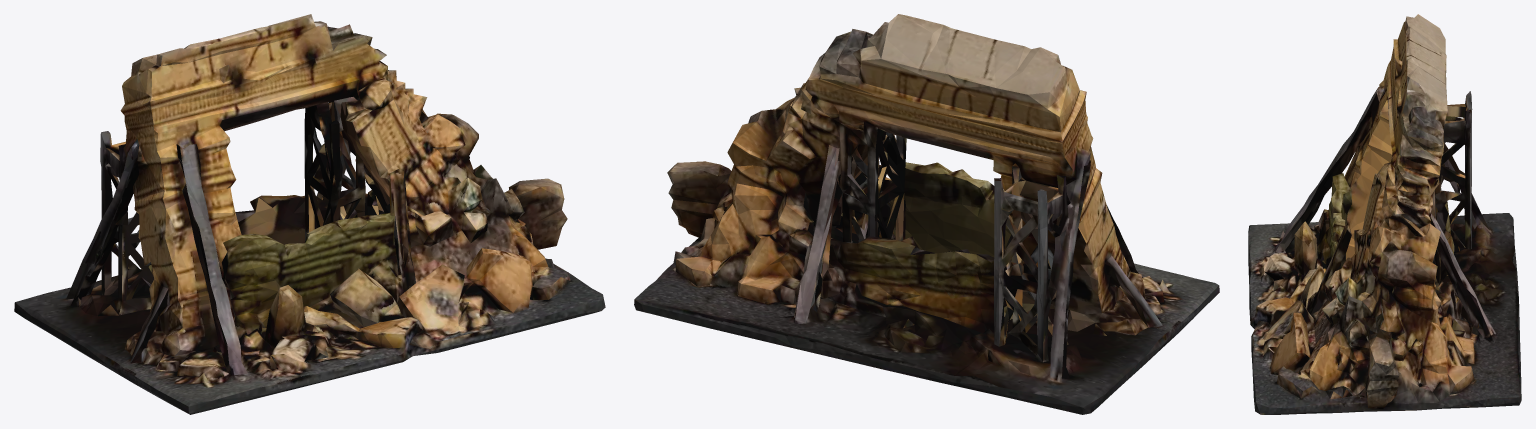
File: temple-collapsed-arch.glb
3 renders of one model, left to right at view 1: azimuth 30°, elevation 25°; view 2: azimuth 150°, elevation 25°; view 3: azimuth 270°, elevation 25°, orthographic. The views are drawn at different scales.
Parts seen in each view (by area): view 1: tmp8g248z42.ply; view 2: tmp8g248z42.ply; view 3: tmp8g248z42.ply.
Part boxes in pixels (box(x1,y1,x2,y2)): tmp8g248z42.ply: box(14, 14, 605, 414); tmp8g248z42.ply: box(634, 14, 1219, 414); tmp8g248z42.ply: box(1248, 14, 1521, 414).
Bounding box in the file's own units: 7 × 4 × 4.
Materials: 1 (1 with a texture image).
